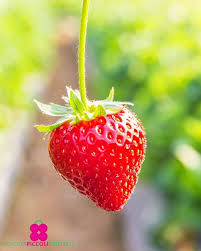peduncle: (78, 0, 89, 109)
